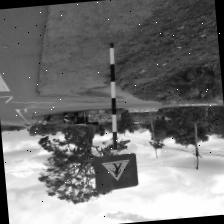blueboard: (92, 152, 140, 192)
